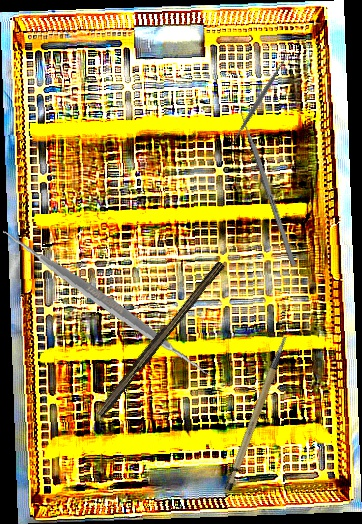Pusher: (235, 101, 297, 267)
Scalpel Handle: (93, 257, 226, 420), (204, 335, 312, 493)
Spatula Surgical: (2, 202, 209, 404), (224, 49, 294, 151)
